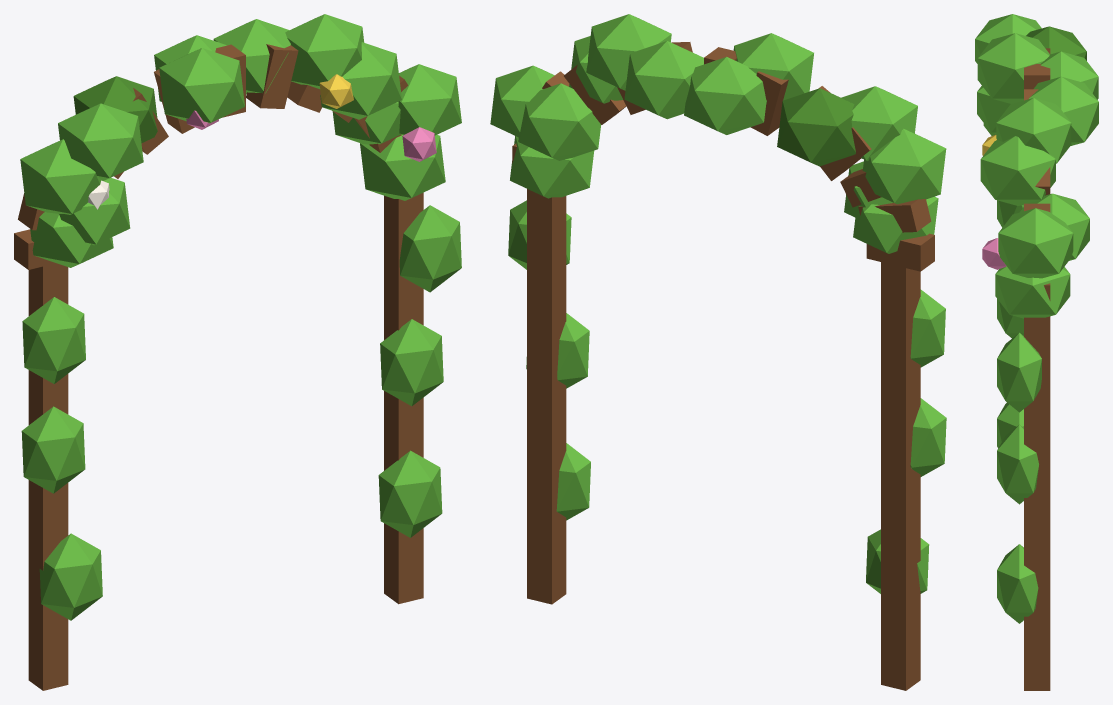
File: vine_arch.glb
3 views of the same model, side by side, from view 1: azimuth 30°, elevation 25°; view 2: azimuth 150°, elevation 25°; view 3: azimuth 270°, elevation 25° (orthographic). The views are drawn at different scales.
Parts seen in each view (by area): view 1: vine_arch; view 2: vine_arch; view 3: vine_arch.
Boxes of the visible parts, x1,y1,x2,y2 form: vine_arch: [14, 14, 461, 690]; vine_arch: [490, 14, 946, 690]; vine_arch: [975, 14, 1098, 690].
Bounding box in the file's own units: 2.11 × 2.78 × 0.561.
